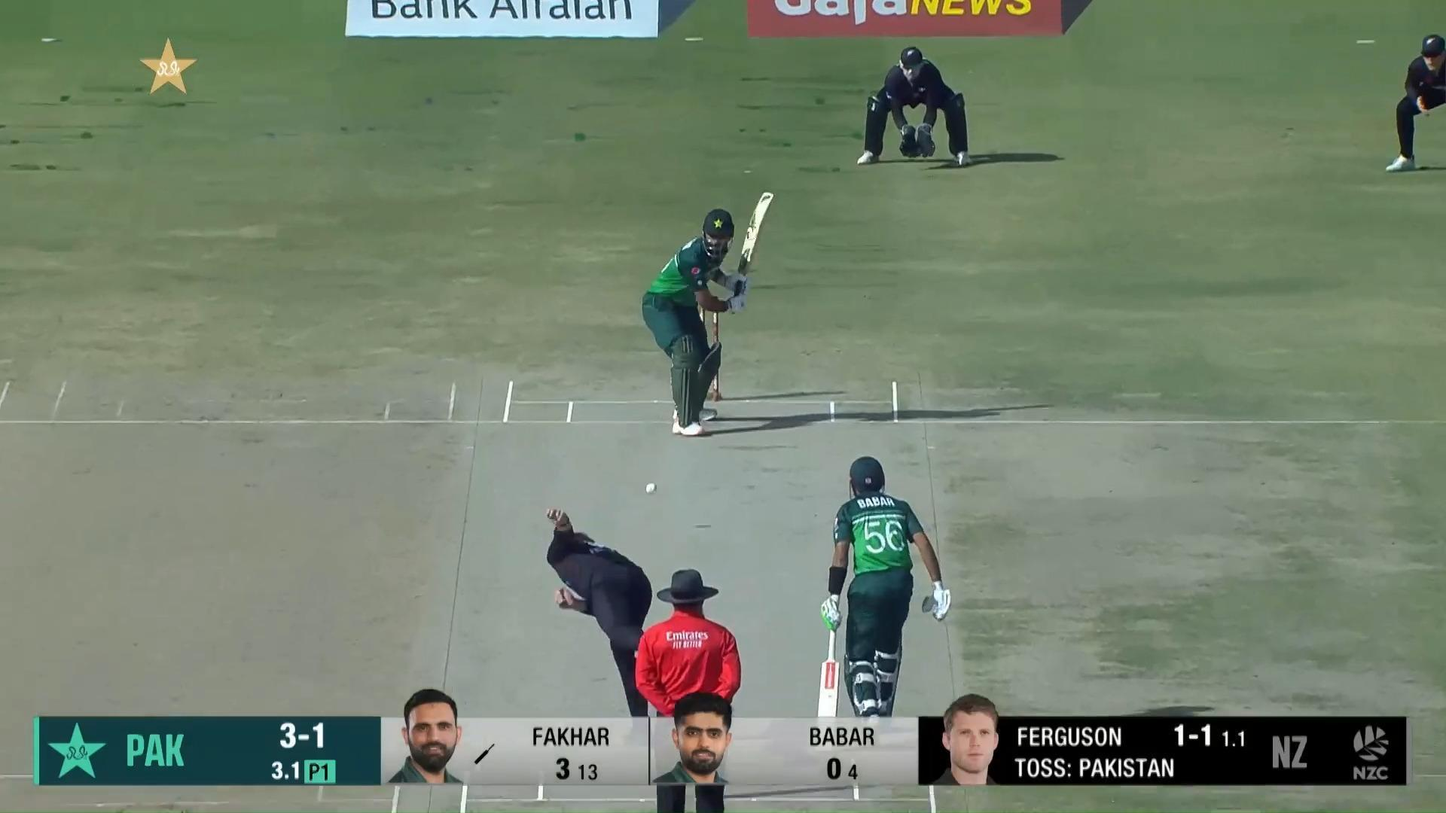BM 1: (640, 190, 776, 438)
BO: (543, 505, 654, 719)
